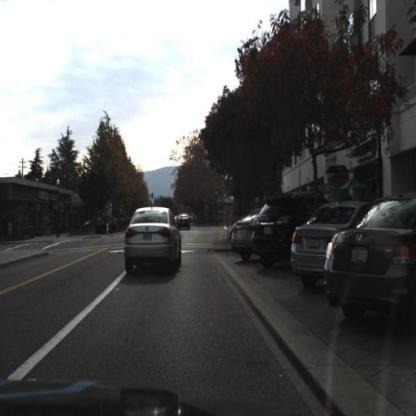car: (321, 199, 415, 316), (250, 186, 304, 271), (290, 200, 342, 286), (123, 202, 182, 277), (230, 210, 254, 260), (172, 206, 194, 238), (82, 216, 112, 235), (176, 212, 192, 232)
